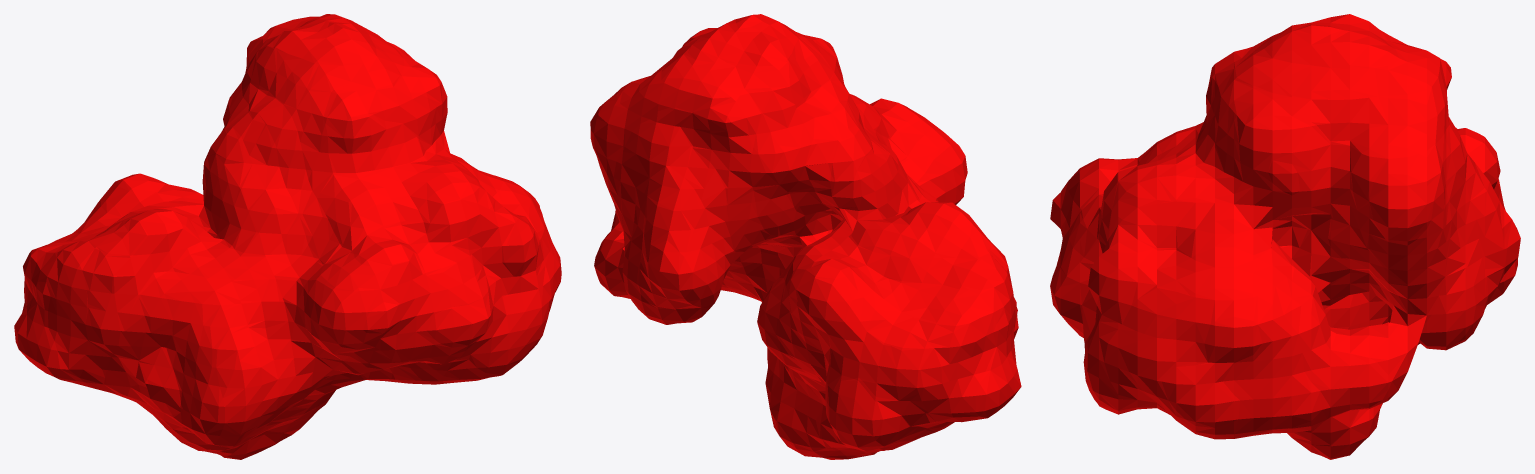
Rendered from fadB_coarse.dae.
3 views of the same model, side by side, from view 1: azimuth 30°, elevation 25°; view 2: azimuth 150°, elevation 25°; view 3: azimuth 270°, elevation 25° (orthographic). The views are drawn at different scales.
Parts seen in each view (by area): view 1: fadB; view 2: fadB; view 3: fadB.
Part boxes in pixels (left/top/right/bottom): fadB: left=14, top=14, right=561, bottom=459; fadB: left=590, top=14, right=1021, bottom=459; fadB: left=1050, top=14, right=1520, bottom=459.
Size of the model in its own units: 88.76 by 77.62 by 70.26.
